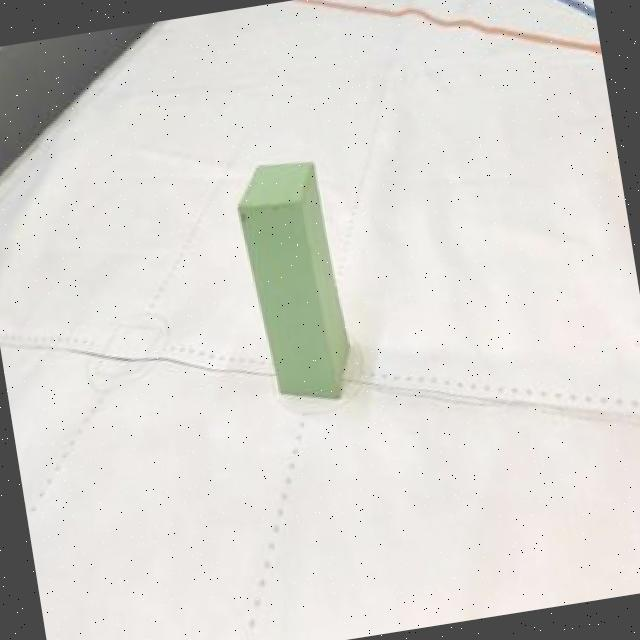greenbox: (232, 155, 354, 405)
